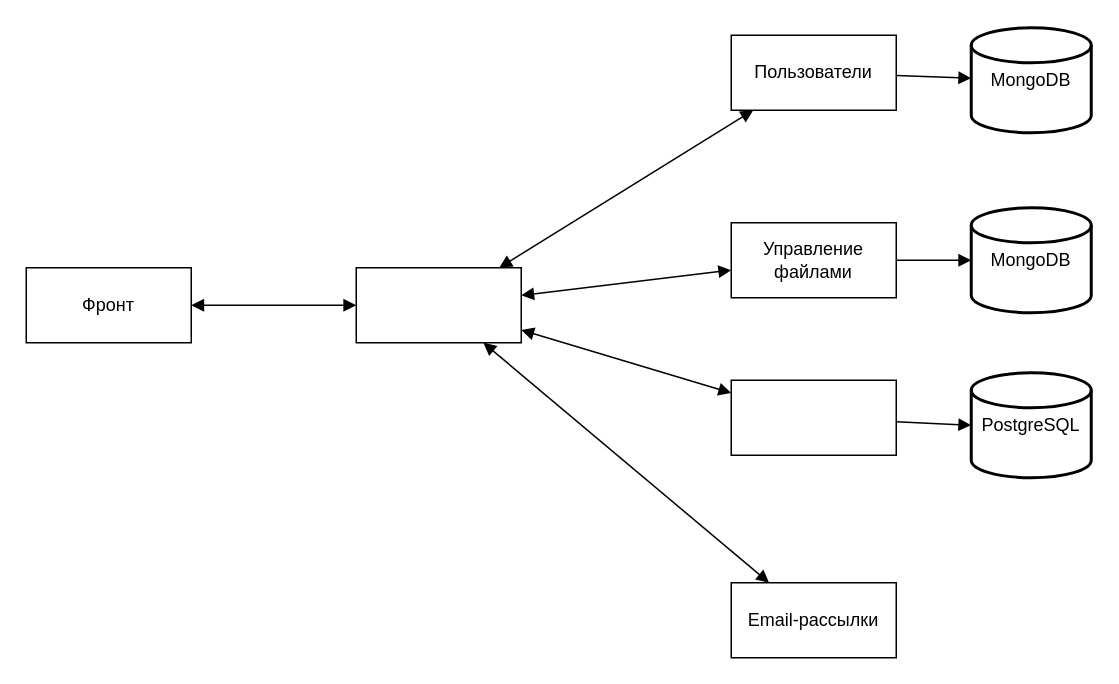
Image size: 1119x684. Some labels were removed from this diagram. The shapes that lost their labels are listed below. From the top down, each one's centre as x and y in pixels, then its label:
[438,304]: API Gateway
[813,417]: Публикации
